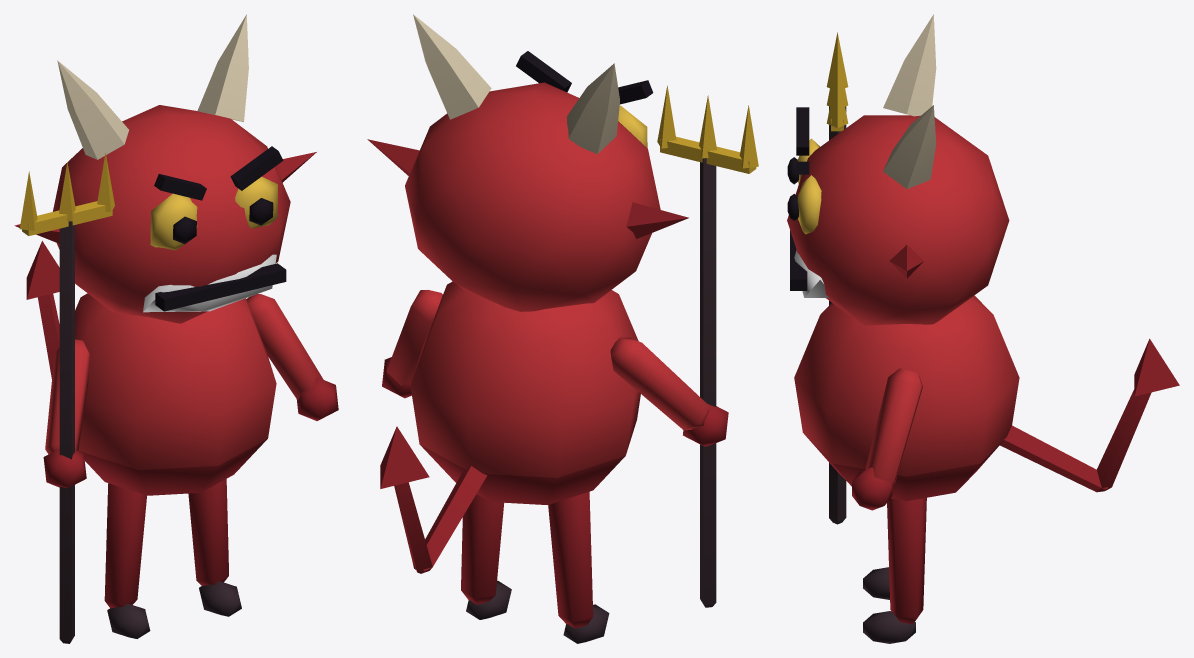
Rendered from e_daemonen_hoellenwichtel.glb.
3 renders of one model, left to right at view 1: azimuth 30°, elevation 25°; view 2: azimuth 150°, elevation 25°; view 3: azimuth 270°, elevation 25°, orthographic. The views are drawn at different scales.
Visible parts, largest first — view 1: body; view 2: body; view 3: body.
Boxes of the visible parts, x1=… form: body: x1=14, y1=14, x2=338, y2=643; body: x1=367, y1=14, x2=758, y2=643; body: x1=787, y1=14, x2=1179, y2=643.
Size of the model in its own units: 0.8742 by 1.43 by 0.9065.
